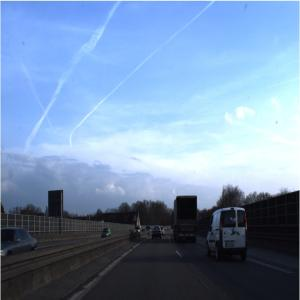slippery road: (133, 214, 139, 223)
